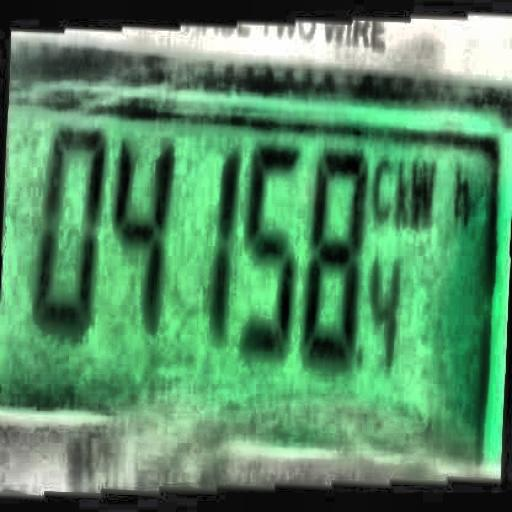SERIAL_REGION: (21, 104, 440, 379)
